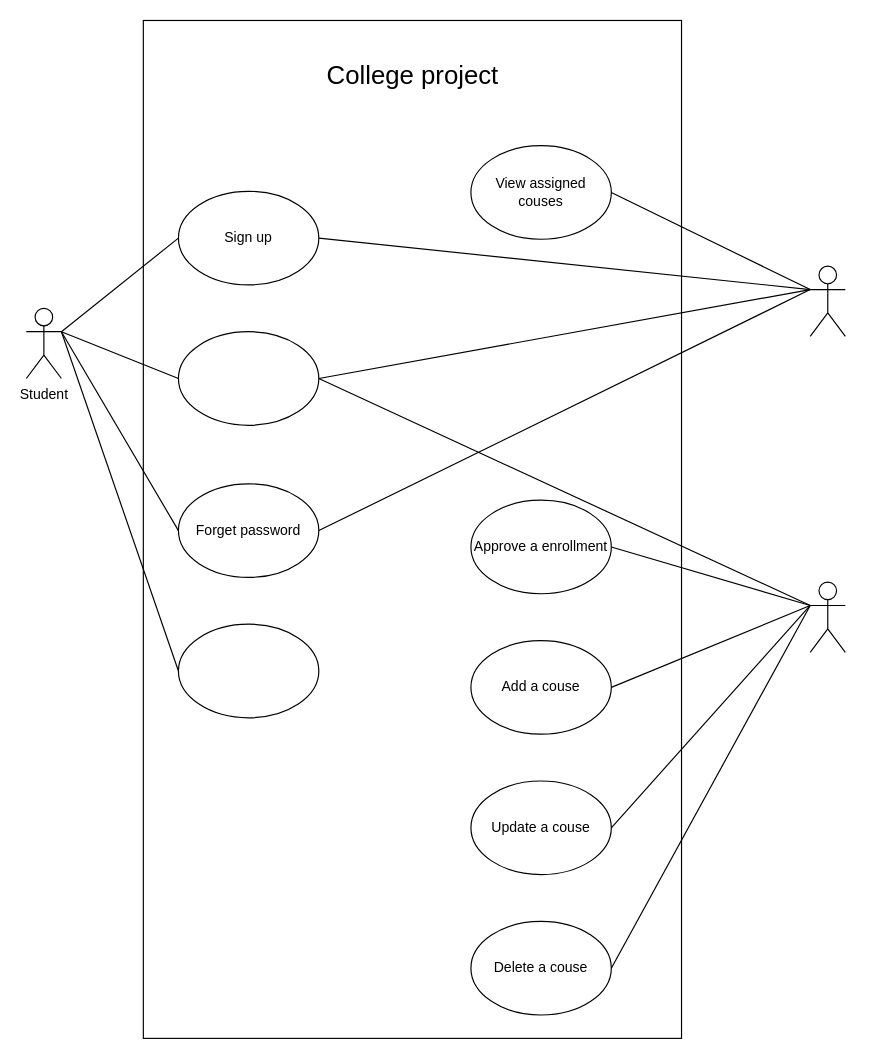
Some shapes in this 874 by 1059 pixel diagram are drawn without their labels. Here are the shapes that lost their labels. From the top down, the centre of each, then its label:
(827,300): Lecturer
(248,378): Login
(827,616): Admin
(248,670): Enroll into a couse
